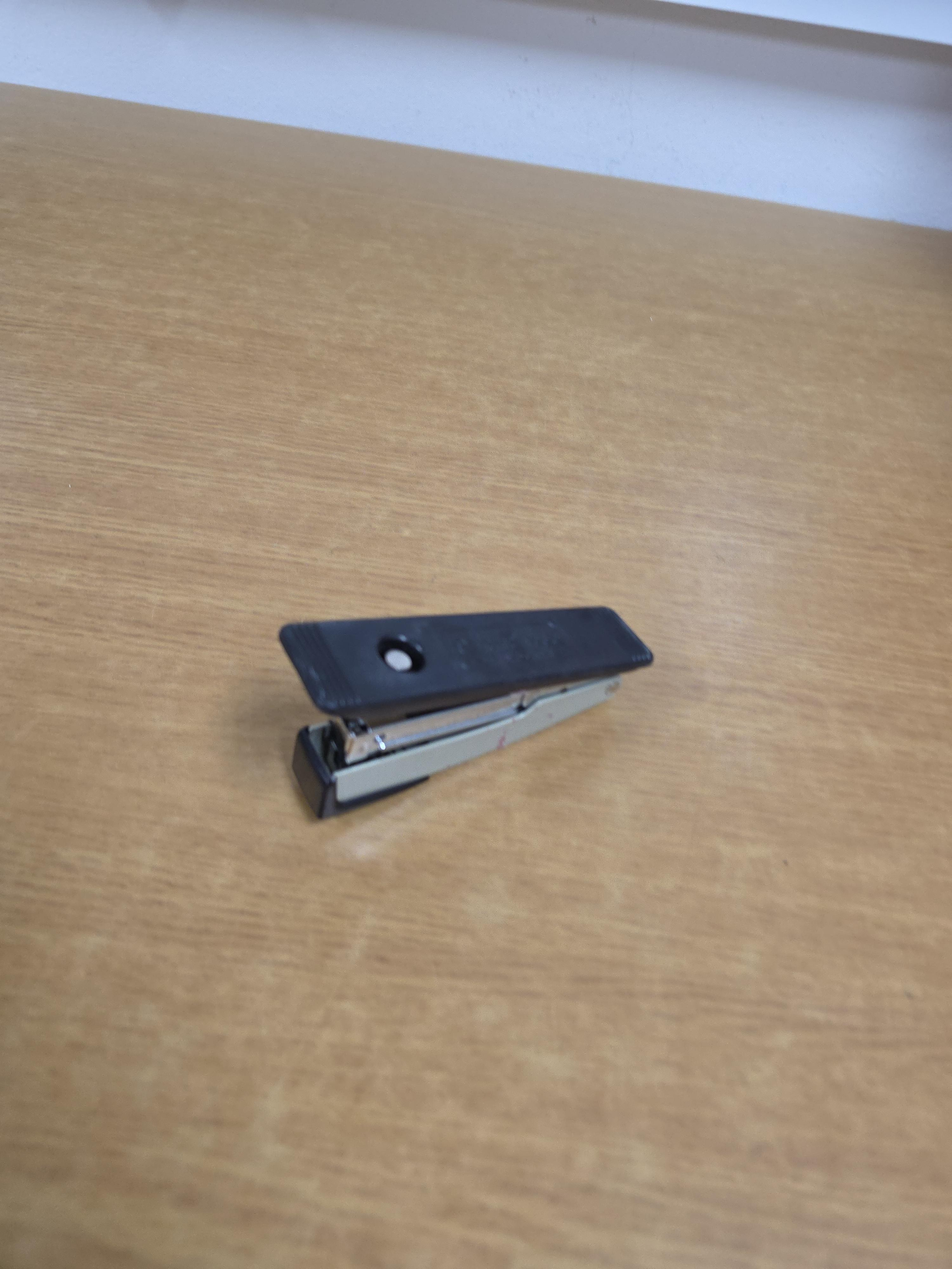stapler: (278, 606, 654, 820)
